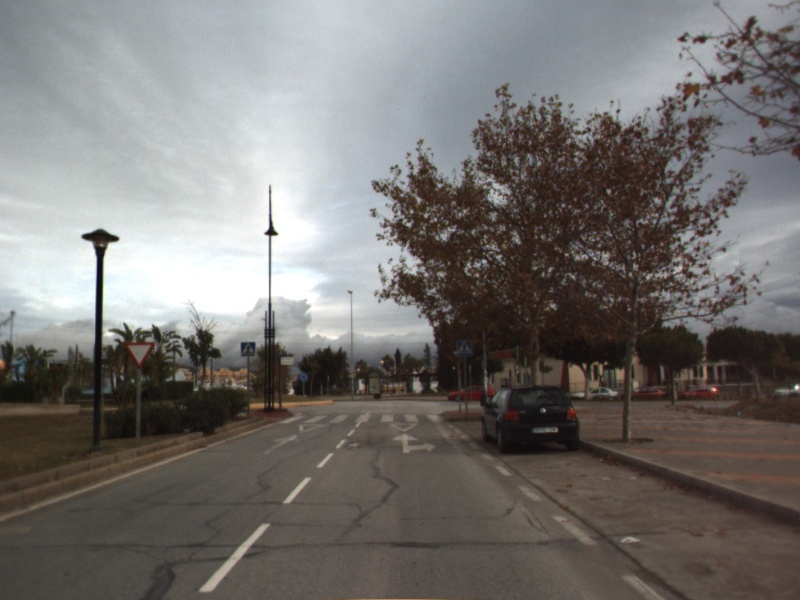STRAIGHT: (261, 432, 302, 456)
STRAIGHT_RIGHT: (391, 432, 438, 455)
